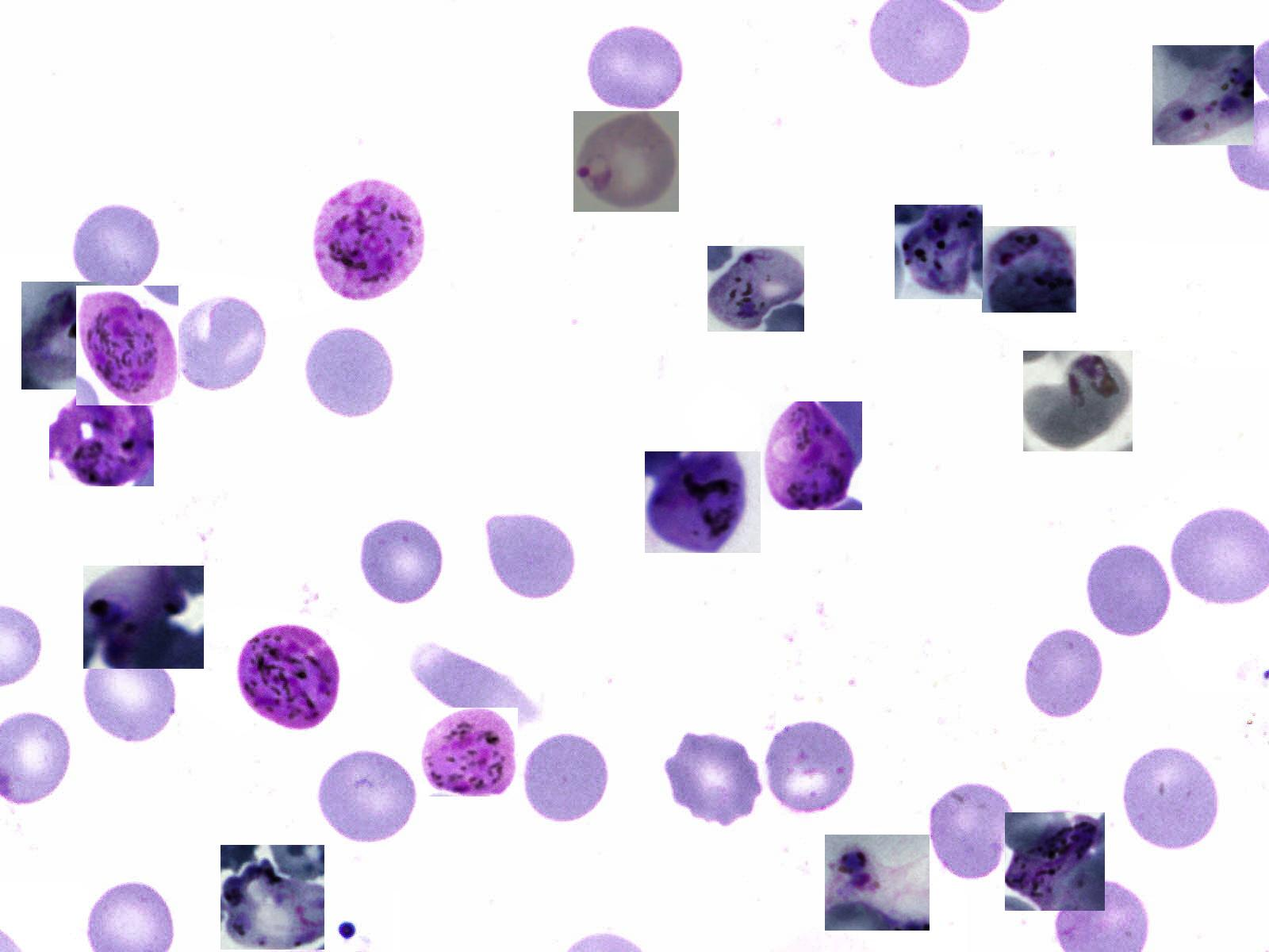Infected: (305, 178, 429, 301), (83, 566, 204, 669), (76, 286, 178, 405), (235, 621, 342, 731), (646, 451, 761, 553), (761, 401, 862, 510), (1023, 351, 1133, 451), (49, 382, 154, 486), (220, 845, 324, 950), (573, 111, 679, 212), (1152, 45, 1254, 145), (825, 835, 930, 931), (1005, 812, 1105, 911), (21, 282, 105, 390), (421, 708, 518, 797), (708, 246, 805, 332), (895, 205, 983, 299), (982, 226, 1076, 313)
Uninfected: (408, 641, 539, 724), (169, 288, 270, 393), (313, 747, 420, 846), (79, 644, 180, 748), (663, 730, 767, 829), (1122, 749, 1217, 853), (763, 716, 857, 820), (301, 321, 397, 422), (481, 506, 582, 601), (923, 781, 1018, 882), (583, 24, 685, 114), (1083, 539, 1174, 639), (69, 201, 167, 292), (520, 728, 611, 824), (359, 515, 449, 605), (1022, 627, 1109, 719)
